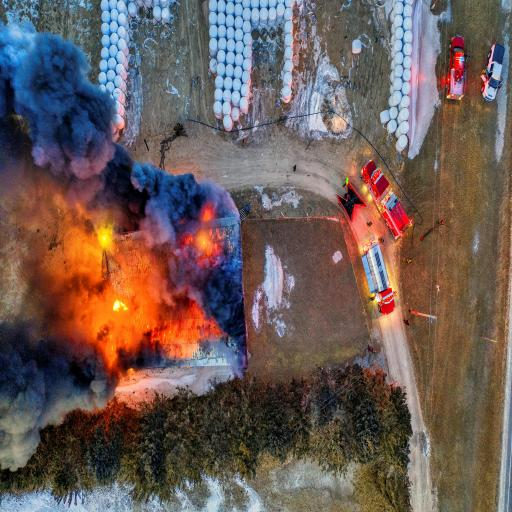smoke: (0, 23, 240, 251), (0, 228, 115, 470), (158, 246, 246, 342)
